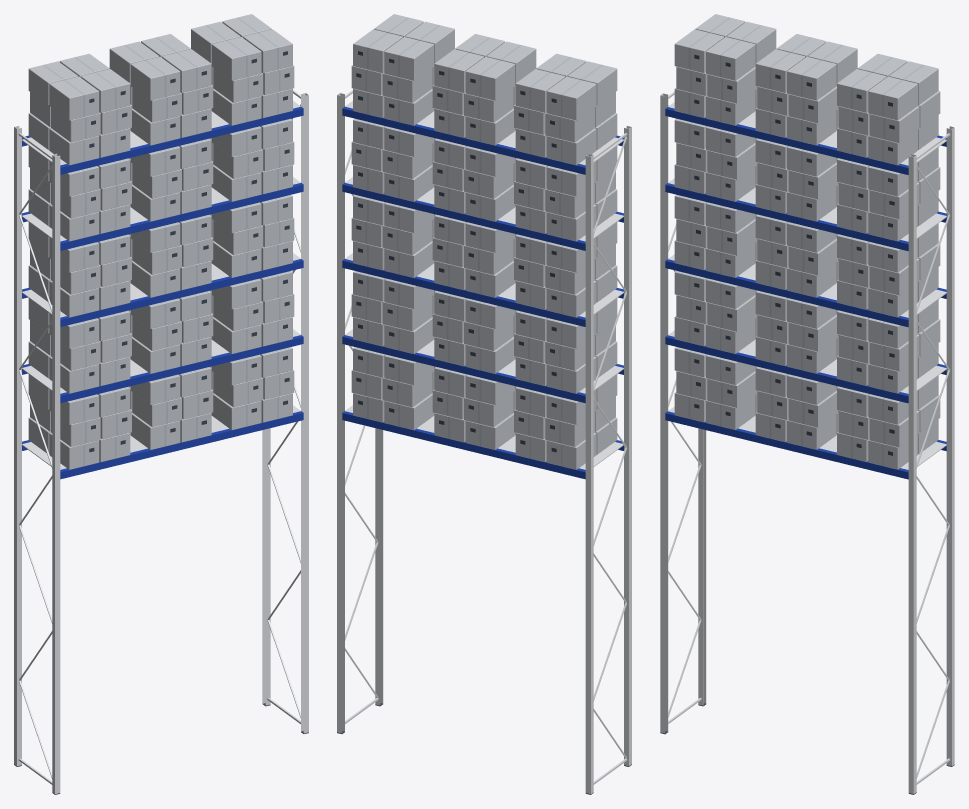
File: SM_MPR_CADRack_F9_W144_Passage.fbx
3 views of the same model, side by side, from view 1: azimuth 30°, elevation 25°; view 2: azimuth 150°, elevation 25°; view 3: azimuth 330°, elevation 25° (orthographic).
Parts seen in each view (by area): view 1: SM_MPR_CADRack_F9_W144_Passage; view 2: SM_MPR_CADRack_F9_W144_Passage; view 3: SM_MPR_CADRack_F9_W144_Passage.
Boxes of the visible parts, x1,y1,x2,y2 form: SM_MPR_CADRack_F9_W144_Passage: (14, 14, 308, 794); SM_MPR_CADRack_F9_W144_Passage: (337, 14, 631, 794); SM_MPR_CADRack_F9_W144_Passage: (660, 14, 954, 794).
Bounding box in the file's own units: 381 × 107 × 994.
